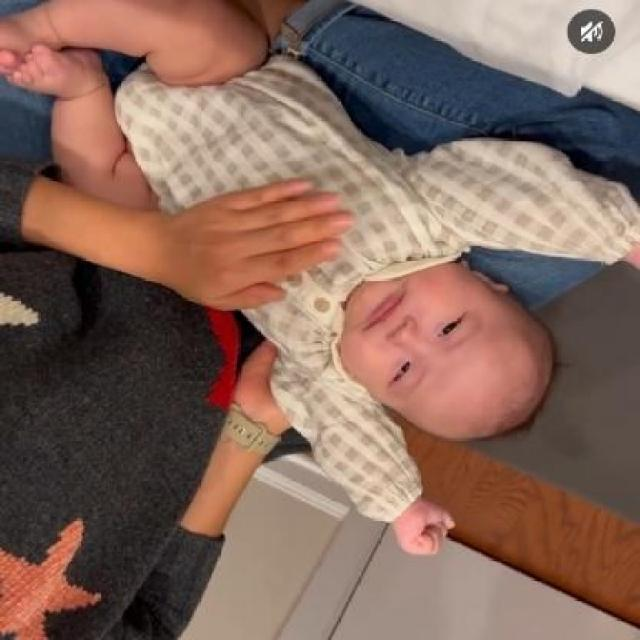child: (8, 3, 636, 446)
